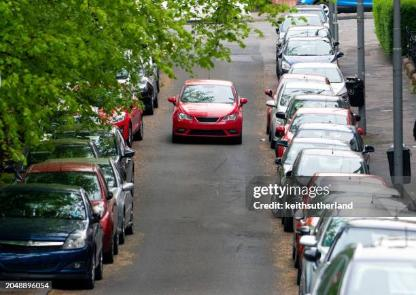car: (0, 180, 106, 295), (20, 157, 122, 260), (278, 144, 364, 219), (166, 76, 251, 145)
